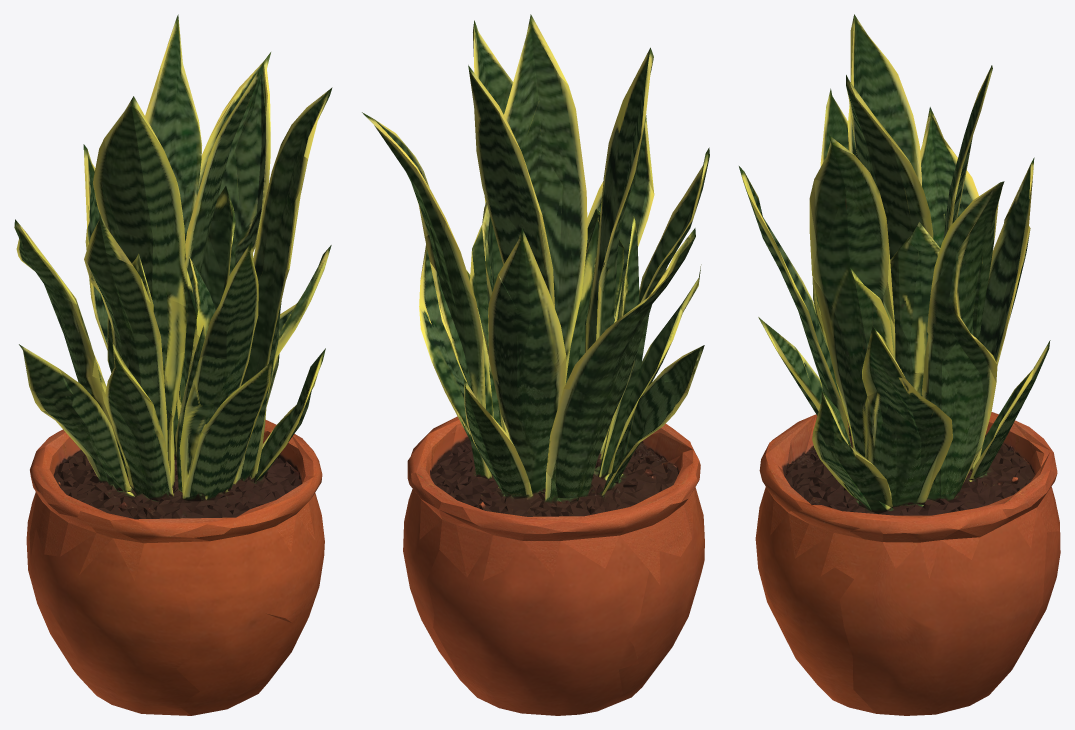
File: snake-plant.glb
3 renders of one model, left to right at view 1: azimuth 30°, elevation 25°; view 2: azimuth 150°, elevation 25°; view 3: azimuth 270°, elevation 25°, orthographic.
Parts seen in each view (by area): view 1: output_unwrapped; view 2: output_unwrapped; view 3: output_unwrapped.
Part boxes in pixels (<box>): output_unwrapped: <box>14,14,332,715</box>; output_unwrapped: <box>362,14,709,715</box>; output_unwrapped: <box>739,14,1060,715</box>.
Size of the model in its own units: 0.9431 by 1.9 by 0.8732.
1 material, 1 textured.
